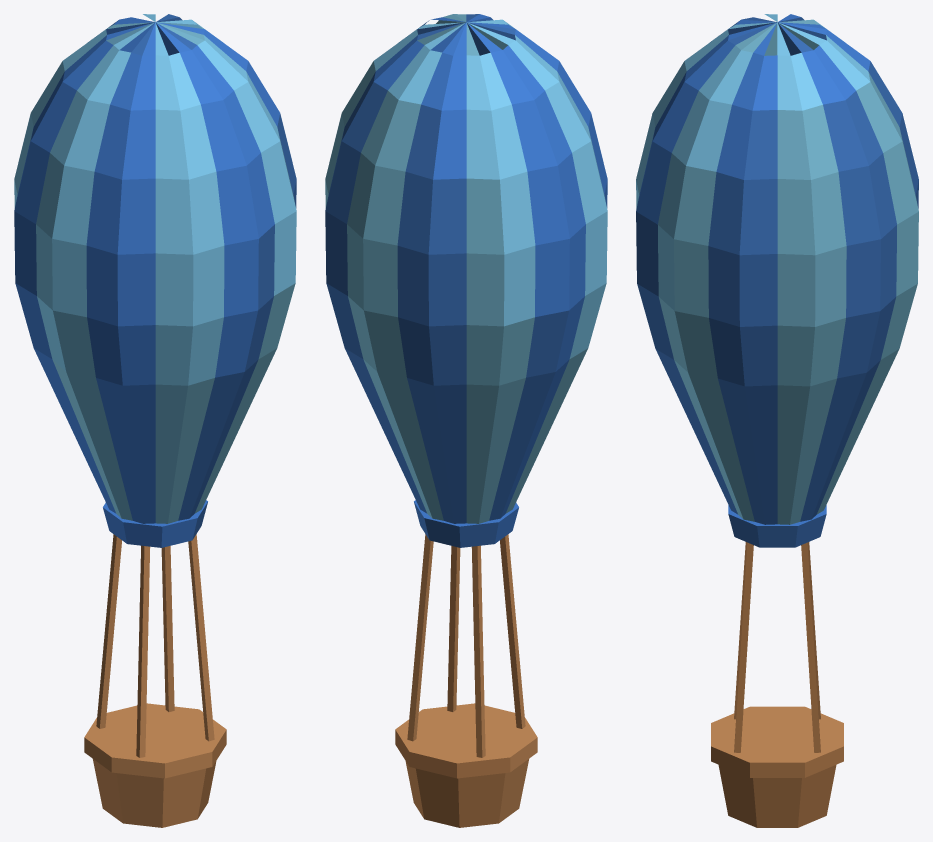
The model's file is balloon_long.glb.
The picture shows the model from 3 angles, left to right: view 1: azimuth 30°, elevation 25°; view 2: azimuth 150°, elevation 25°; view 3: azimuth 270°, elevation 25°; orthographic projection.
Visible parts, largest first — view 1: skin, basket, string, knot; view 2: skin, basket, string, knot; view 3: skin, basket, string, knot.
Boxes of the visible parts, x1,y1,x2,y2 form: skin: (14, 14, 296, 523); basket: (84, 703, 226, 827); string: (96, 534, 214, 757); knot: (103, 500, 207, 547); skin: (325, 14, 607, 523); basket: (395, 703, 537, 827); string: (407, 534, 525, 757); knot: (414, 500, 518, 547); skin: (636, 14, 918, 524); basket: (711, 706, 843, 827); string: (734, 542, 820, 752); knot: (728, 505, 826, 547).
Bounding box in the file's own units: 0.0425 × 0.13 × 0.0425.
